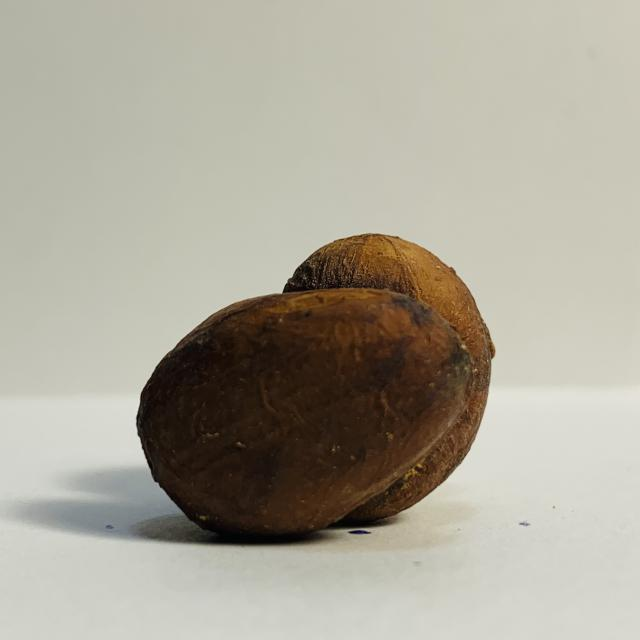Agglomerated_cocoabeans: (8, 218, 582, 568)
